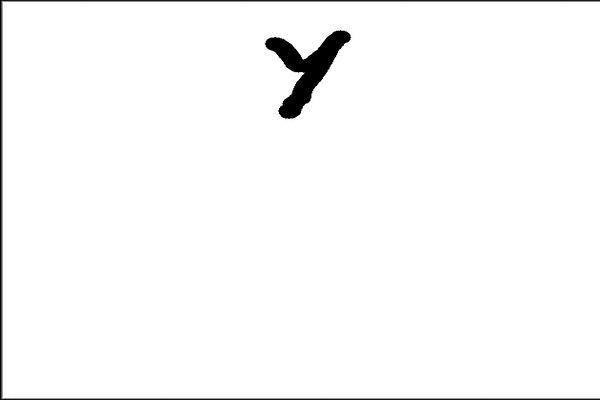Y: (258, 21, 368, 122)
